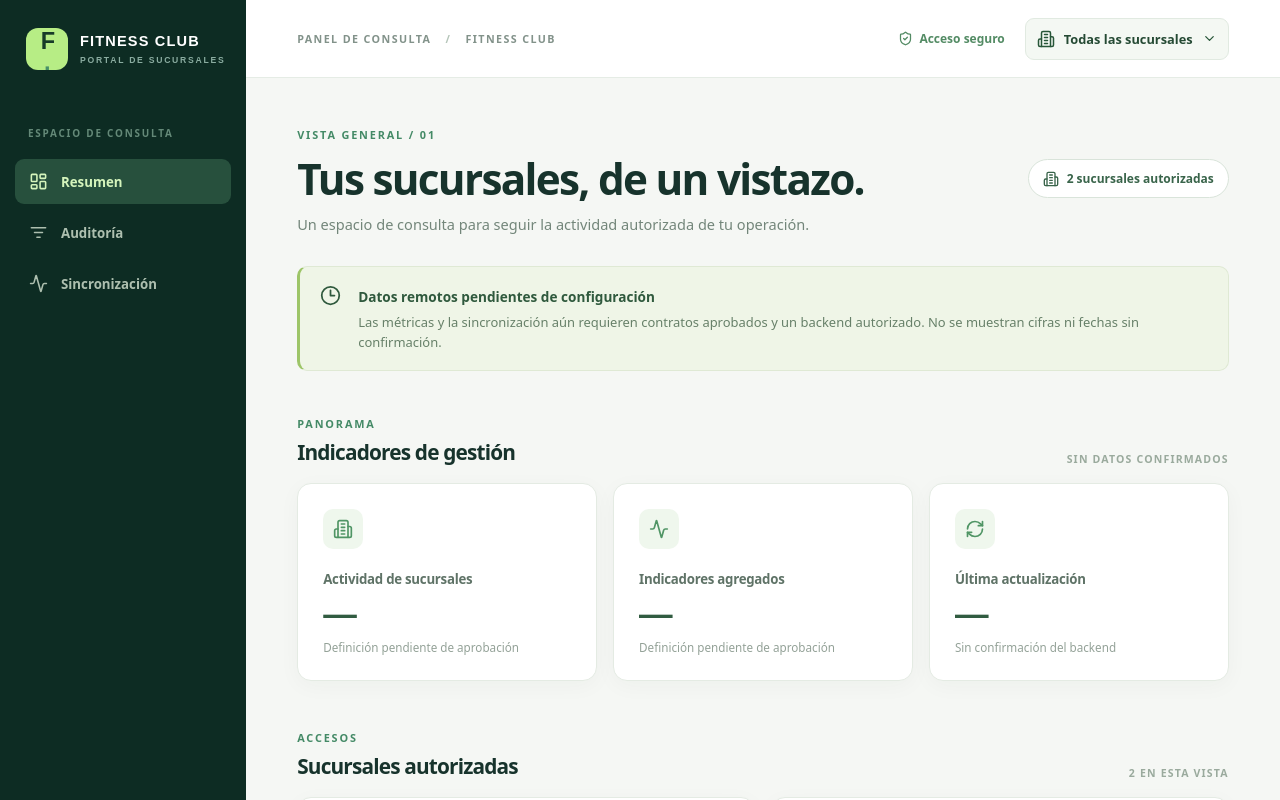
sucursales y estado › no fabrica métricas ni datos de sincronización y mantiene Actualizar deshabilitado
Expected: the text "Datos remotos pendientes de configuración" is shown, [358, 287, 655, 306]
Expected: the text "Definición pendiente de aprobación" is shown 2 times, [323, 640, 519, 655]; [639, 640, 835, 655]
Click the link "Sincronización" at [93, 284], box [29, 274, 157, 293]
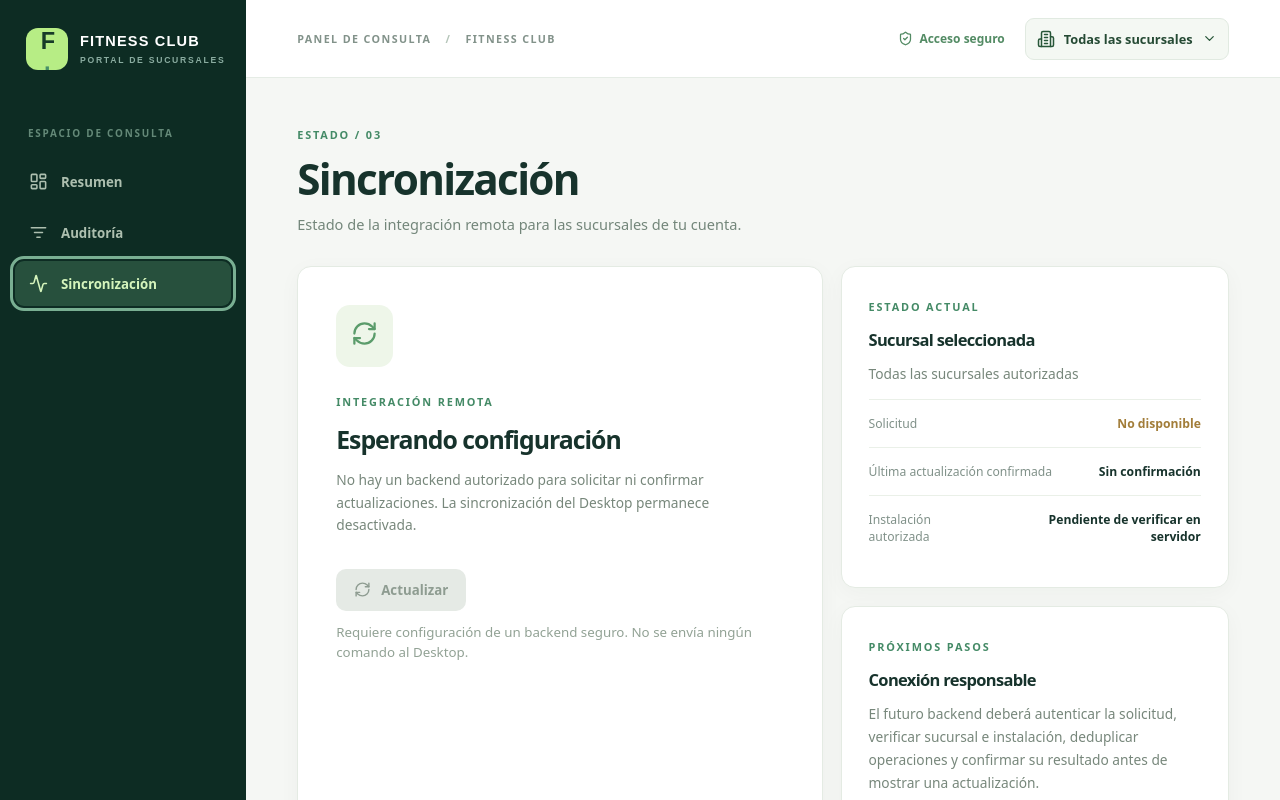
Expected: the text "Sin confirmación" is shown, [1099, 463, 1201, 480]
Now the button "Actualizar" is disabled, box [336, 569, 466, 611]
